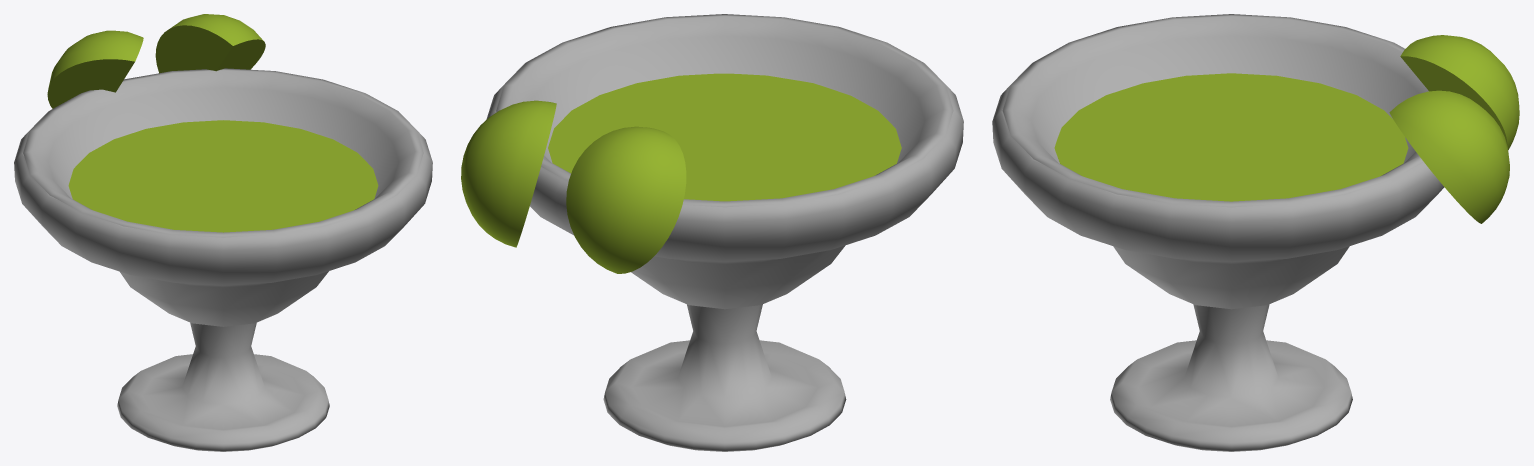
Rendered from green cocktail.fbx.
3 views of the same model, side by side, from view 1: azimuth 30°, elevation 25°; view 2: azimuth 150°, elevation 25°; view 3: azimuth 270°, elevation 25° (orthographic). The views are drawn at different scales.
Parts seen in each view (by area): view 1: nurbsToPoly1, pCylinder1, pasted__pSphere1, pSphere1; view 2: nurbsToPoly1, pCylinder1, pSphere1, pasted__pSphere1; view 3: nurbsToPoly1, pCylinder1, pasted__pSphere1, pSphere1.
Boxes of the visible parts, left/top/right/bottom form: nurbsToPoly1: left=14, top=68, right=432, bottom=451; pCylinder1: left=68, top=120, right=378, bottom=232; pasted__pSphere1: left=155, top=14, right=265, bottom=73; pSphere1: left=47, top=30, right=143, bottom=108; nurbsToPoly1: left=486, top=14, right=963, bottom=451; pCylinder1: left=548, top=73, right=901, bottom=201; pSphere1: left=566, top=126, right=686, bottom=273; pasted__pSphere1: left=461, top=100, right=556, bottom=247; nurbsToPoly1: left=992, top=14, right=1444, bottom=451; pCylinder1: left=1054, top=73, right=1408, bottom=201; pasted__pSphere1: left=1389, top=90, right=1509, bottom=223; pSphere1: left=1400, top=35, right=1519, bottom=149.
Size of the model in its own units: 6.28 by 5.15 by 6.92.
